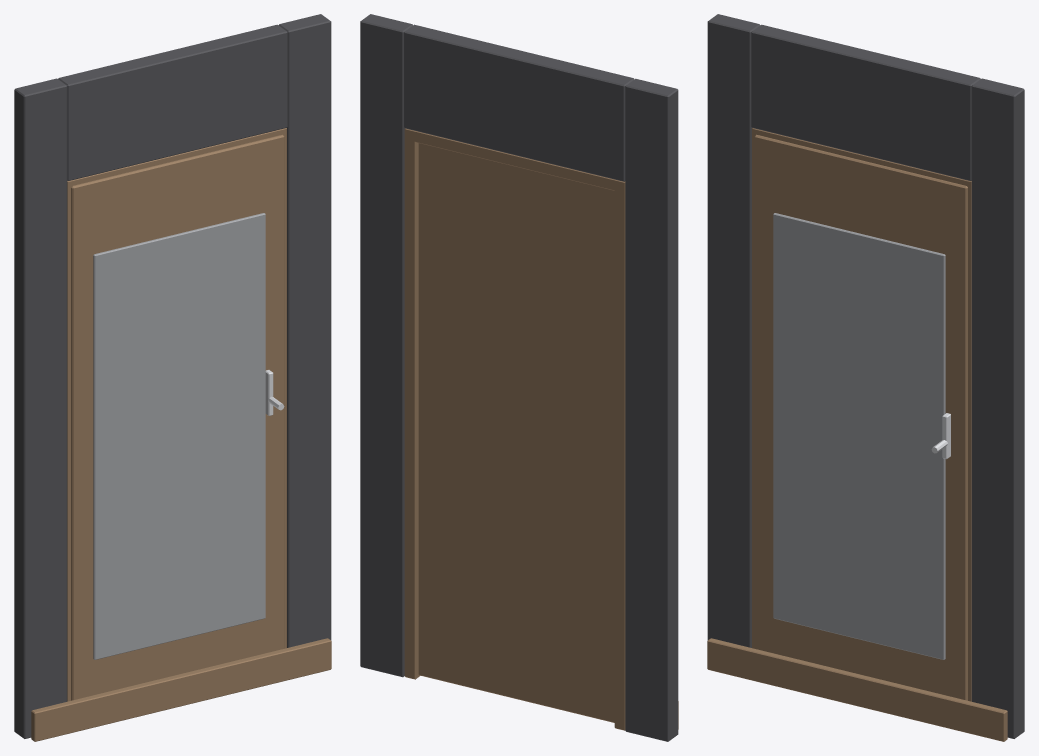
Rendered from room-door.glb.
3 views of the same model, side by side, from view 1: azimuth 30°, elevation 25°; view 2: azimuth 150°, elevation 25°; view 3: azimuth 330°, elevation 25° (orthographic).
Visible parts, largest first — view 1: studio-door-module, door/fabric, door/timber; view 2: door/timber, studio-door-module; view 3: studio-door-module, door/fabric, door/timber.
Boxes of the visible parts, bbox=[...] form: studio-door-module: bbox=[14, 14, 331, 741]; door/fabric: bbox=[93, 213, 265, 659]; door/timber: bbox=[71, 134, 284, 700]; door/timber: bbox=[418, 143, 614, 722]; studio-door-module: bbox=[360, 14, 678, 741]; studio-door-module: bbox=[707, 14, 1024, 741]; door/fabric: bbox=[773, 213, 945, 659]; door/timber: bbox=[754, 134, 967, 700].
Size of the model in its own units: 1.2 by 2.4 by 0.17.
